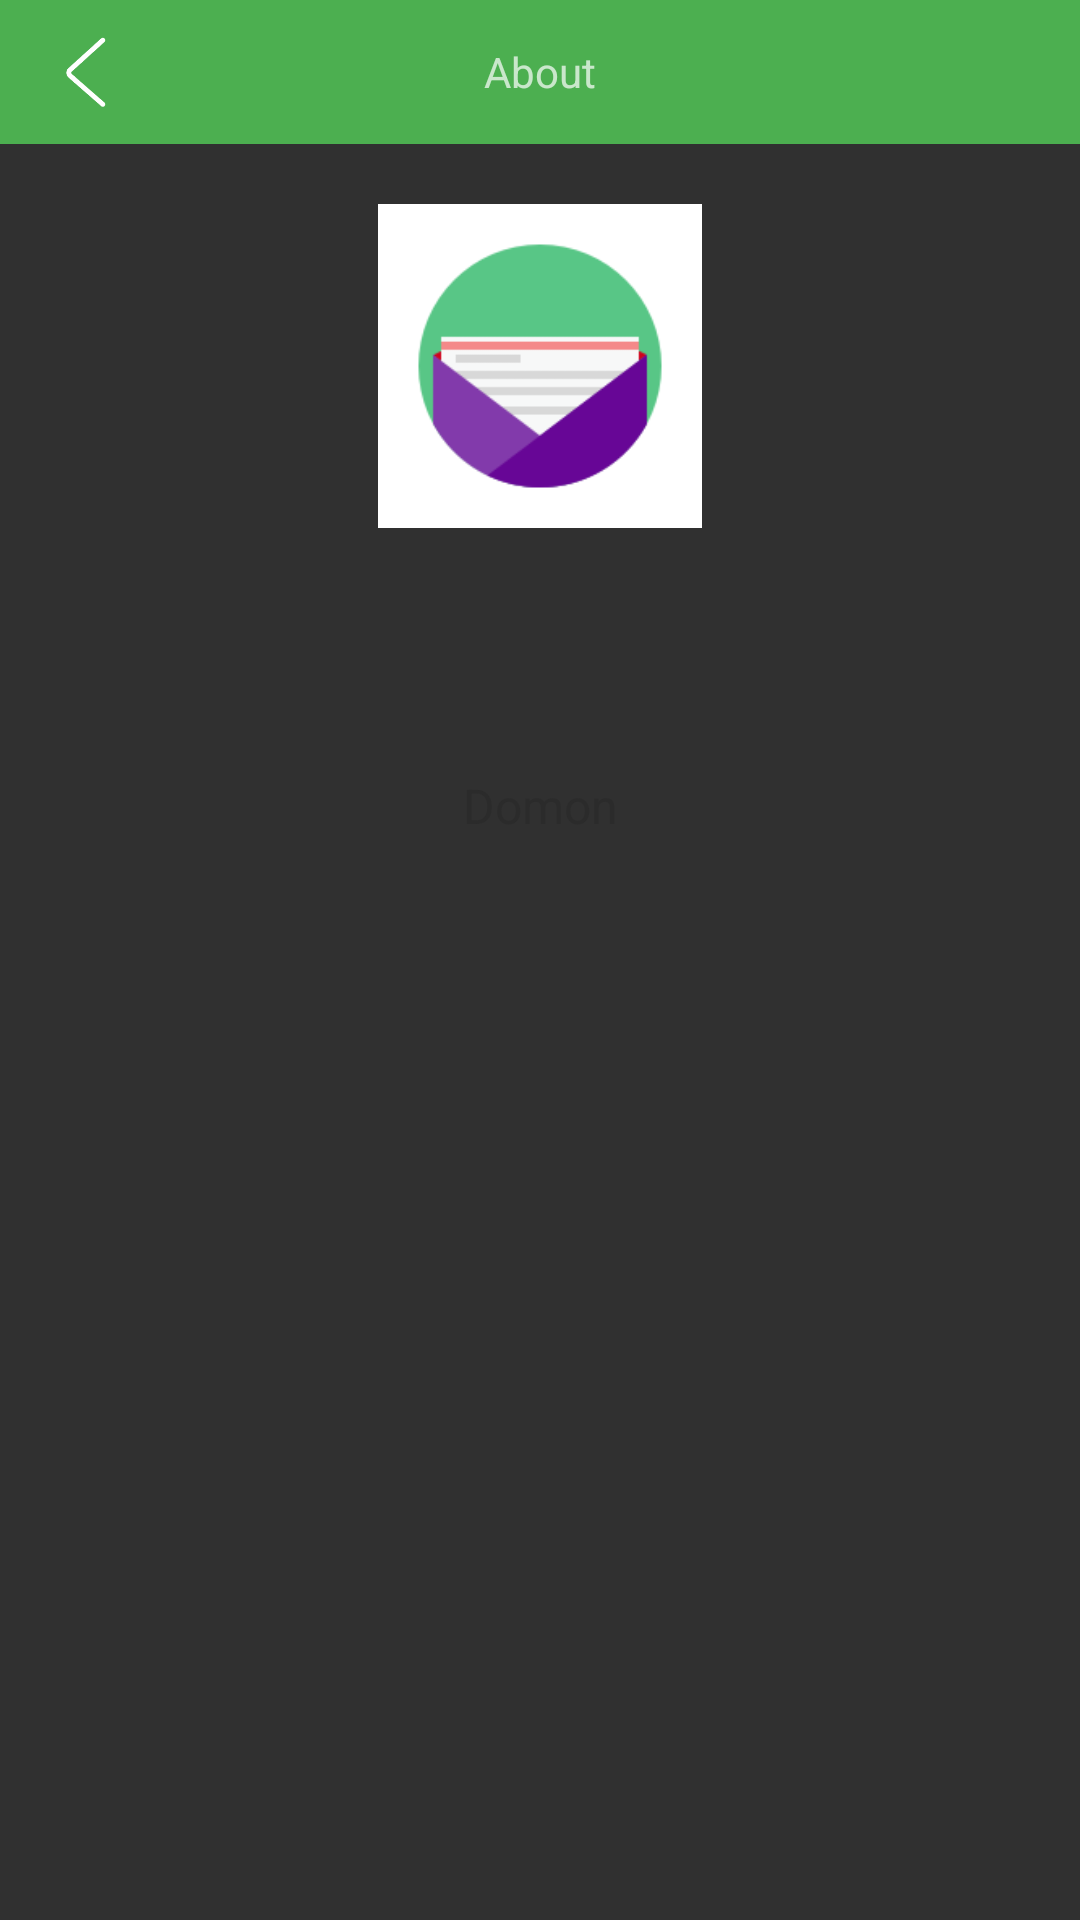

Icons on this 1080px×1920px Android screen, each with the point to tap as point (x, y):
title back: point (86, 72)
